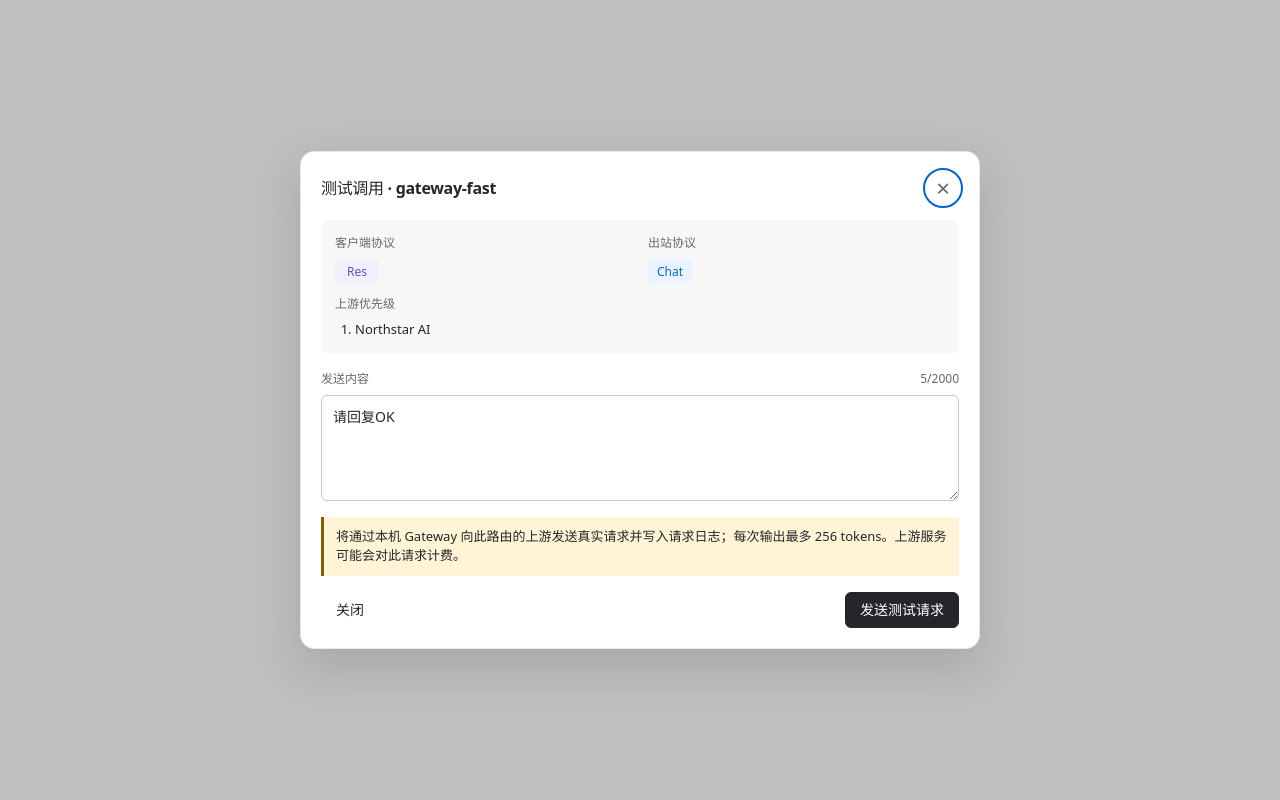
Scenario: RouteTestDialog › keeps the dialog open while a real request is pending
Click the button "发送测试请求".
click(902, 610)  # box x1=845 y1=592 x2=959 y2=628
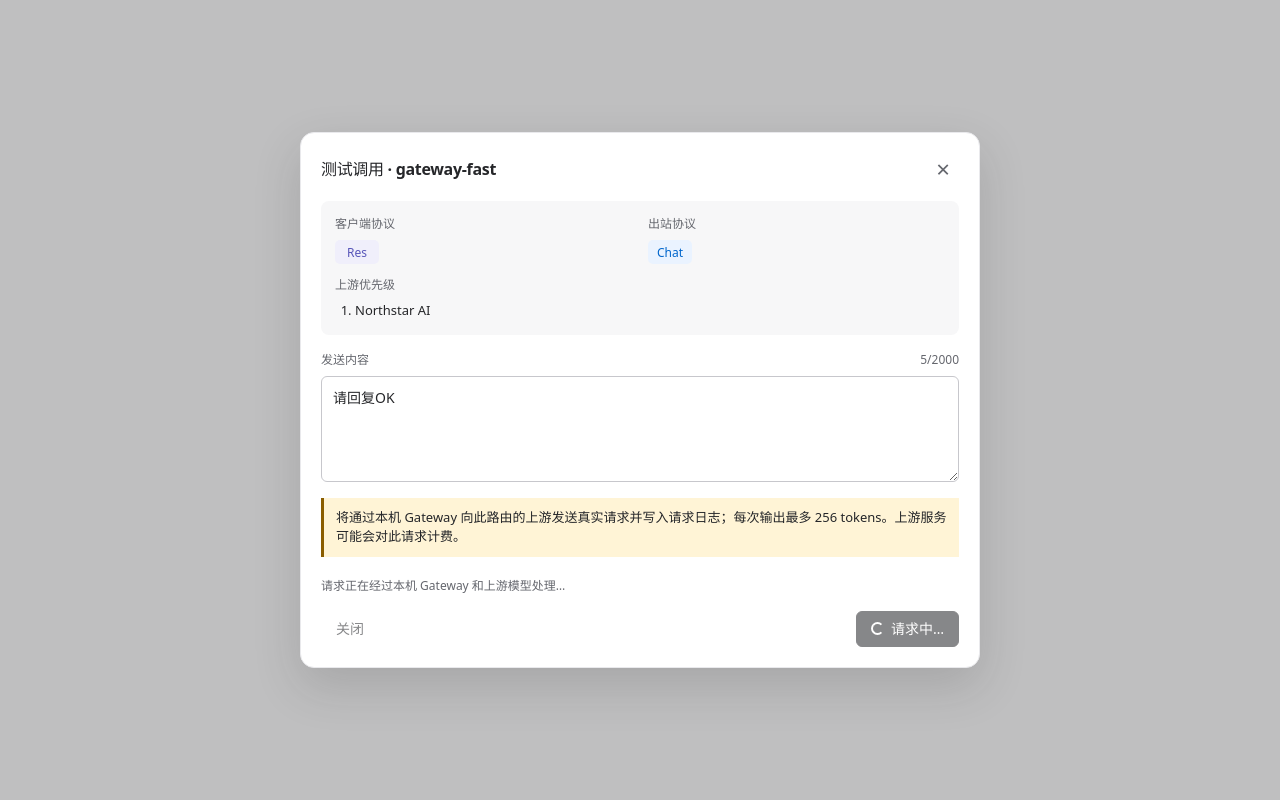
Now the button "请求中…" is disabled, box x1=856 y1=611 x2=959 y2=647
Now the button named "关闭弹窗" is disabled, box x1=927 y1=153 x2=959 y2=185
Press Escape
Press the mouse on the element with class "modal-backdrop" at (640, 400), box x1=0 y1=0 x2=1279 y2=799
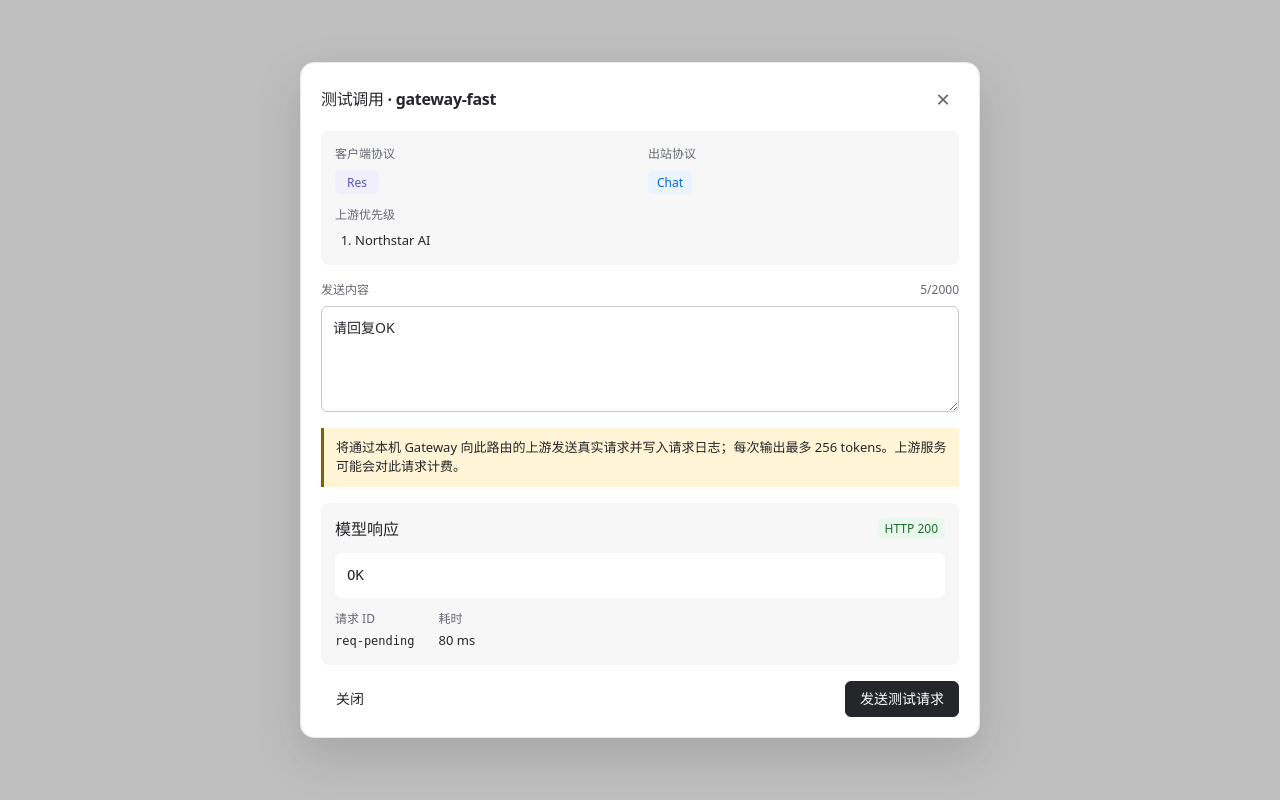
Expected: the dialog "测试调用 · gateway-fast" is shown, x1=300 y1=62 x2=980 y2=738
Now the text "OK" is shown, box x1=335 y1=553 x2=945 y2=598
